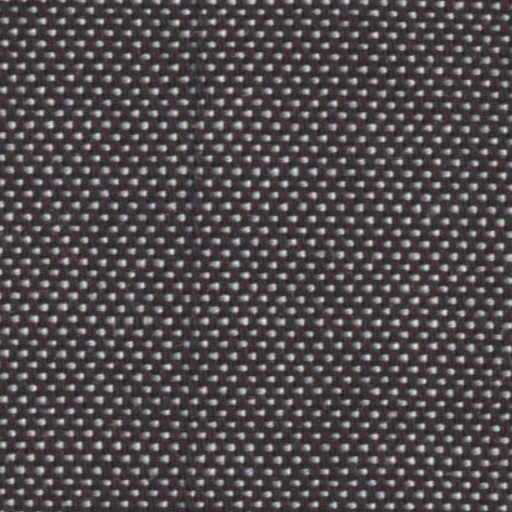TuoSha: (169, 19, 221, 494)
